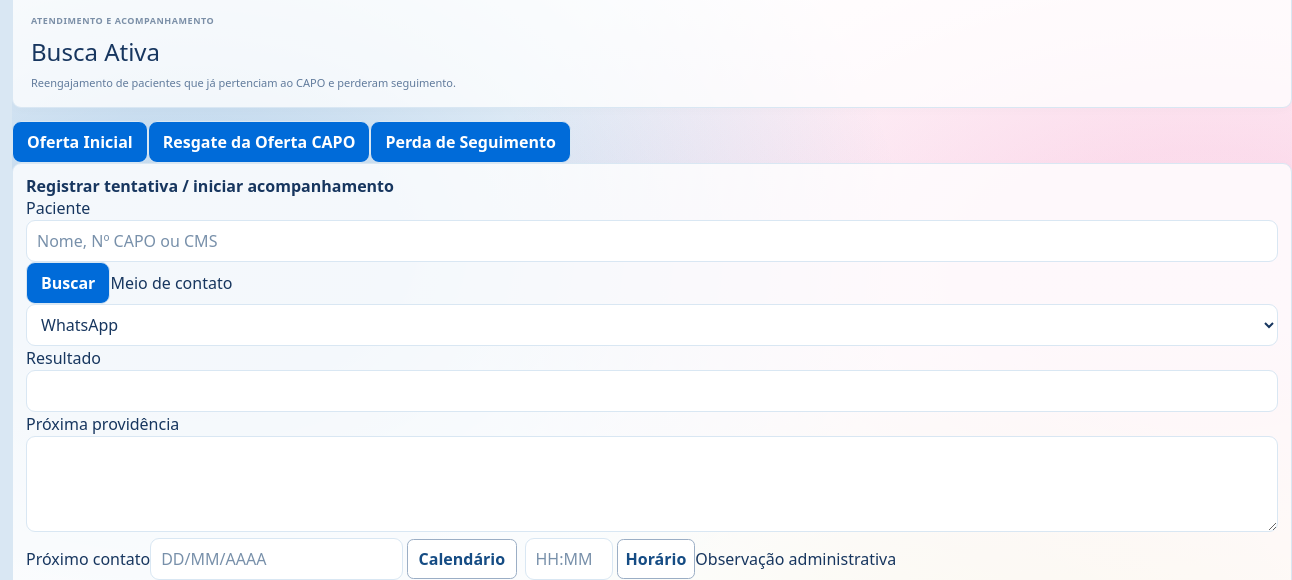
Test: separa Oferta Inicial de Perda de Seguimento sem encaminhar para Faltosos
Expected: the text "Paciente aguardando oferta" is not shown
Click the button "Oferta Inicial".
click(80, 142)  # box [12,120,148,162]
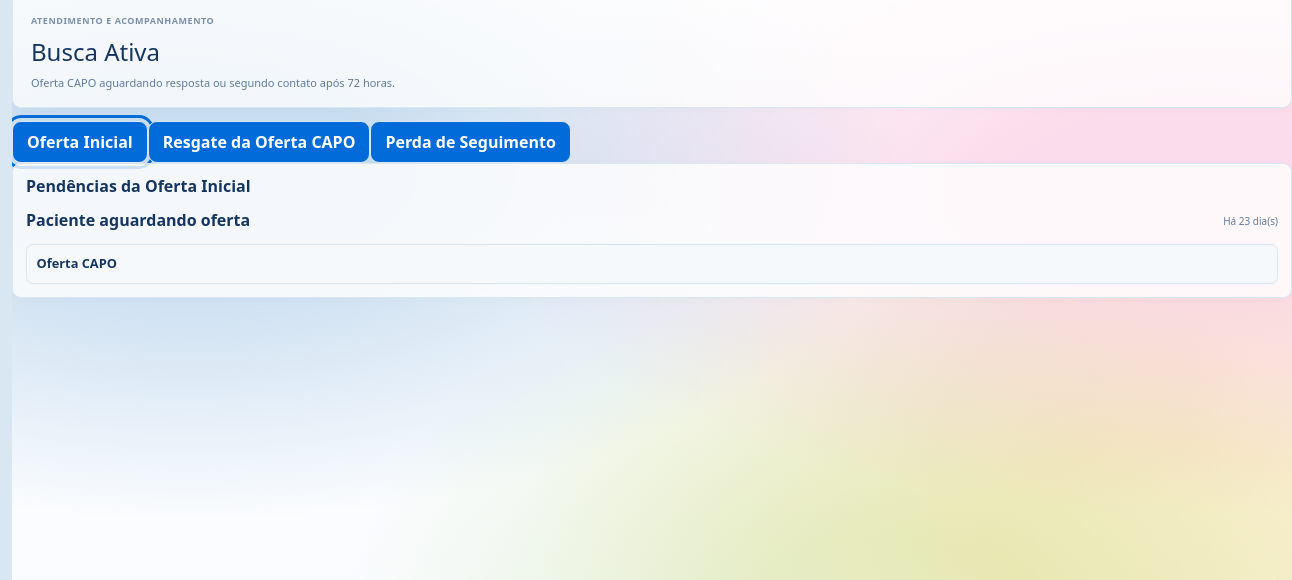
Expected: the text "Paciente aguardando oferta" is shown, [26,209,250,231]
Click the button "Oferta CAPO".
click(77, 263)  # box [26,244,1278,284]
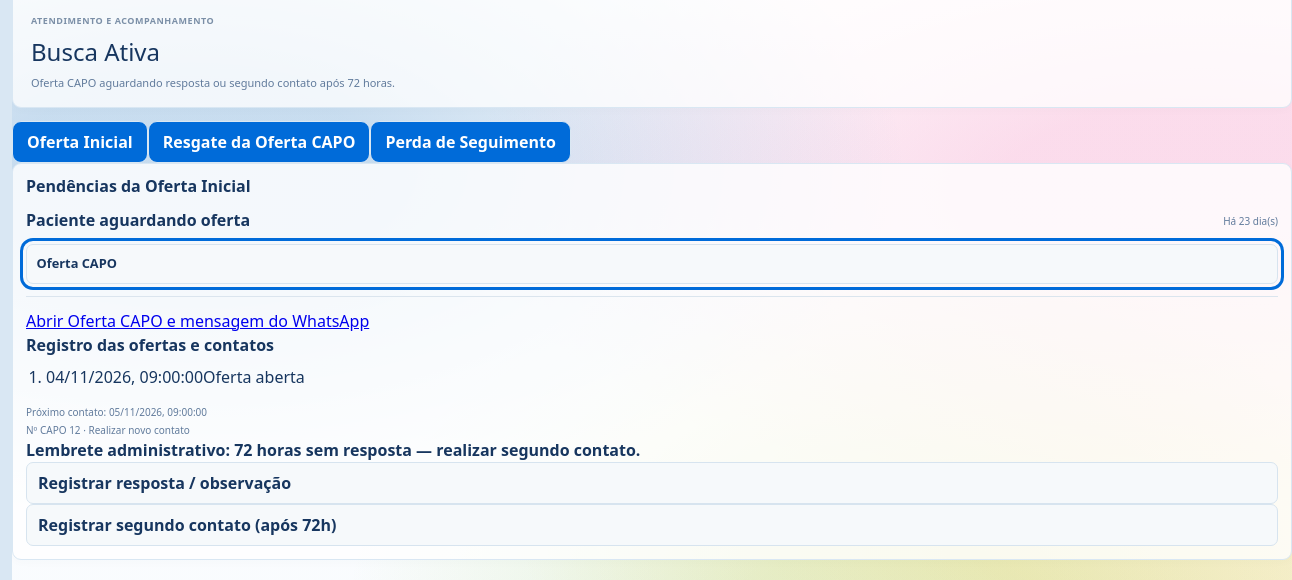
Click the button "Perda de Seguimento".
click(471, 142)  # box [370,120,571,162]
(page scrolled)
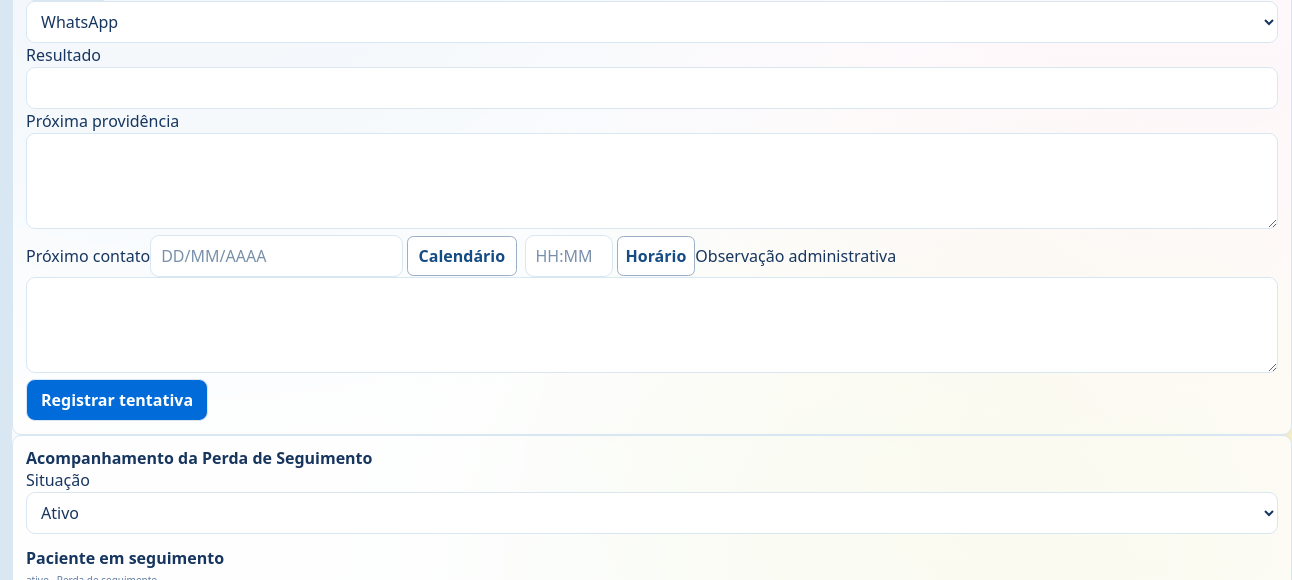
Expected: the text "Paciente em seguimento" is shown, [26,547,224,569]
